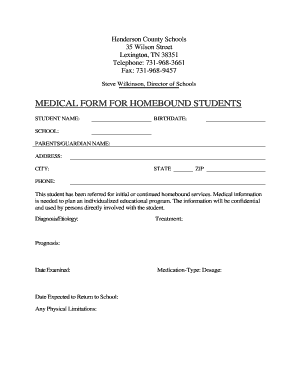textline: (66, 154, 271, 164), (64, 179, 268, 187), (86, 114, 153, 127), (203, 116, 272, 125), (205, 168, 268, 174), (173, 169, 194, 174)
